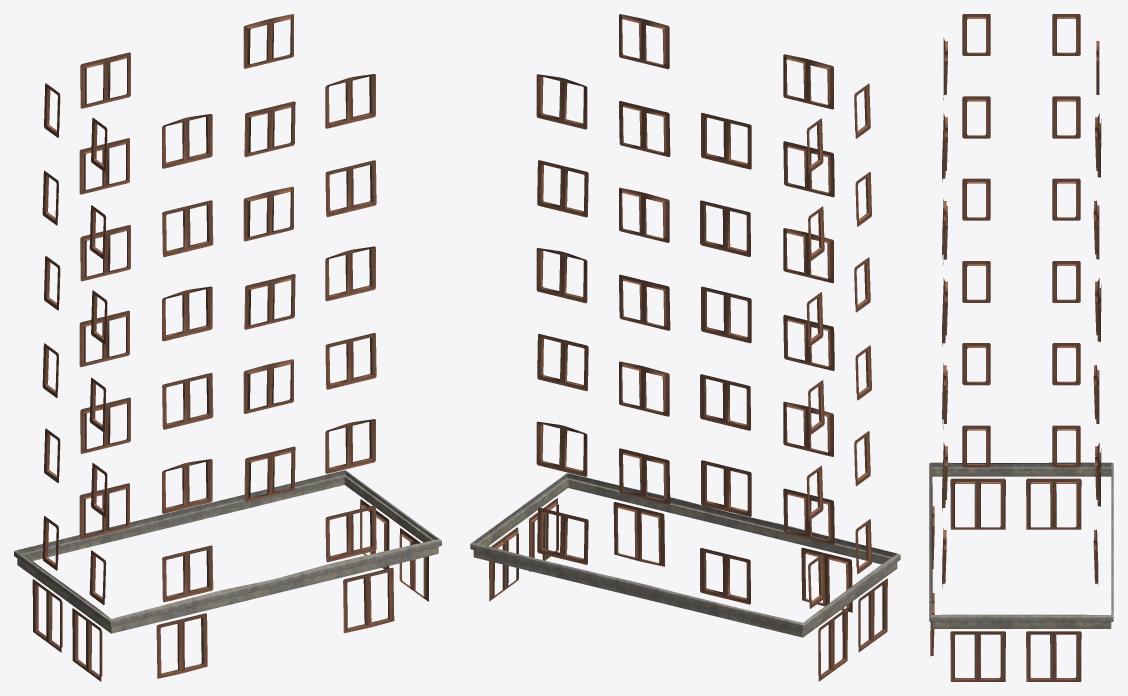
File: Tall_b_trim.fbx
3 views of the same model, side by side, from view 1: azimuth 30°, elevation 25°; view 2: azimuth 150°, elevation 25°; view 3: azimuth 270°, elevation 25° (orthographic). The views are drawn at different scales.
Visible parts, largest first — view 1: Object032; view 2: Object032; view 3: Object032.
Boxes of the visible parts, <box> form: Object032: <box>14,14,441,681</box>; Object032: <box>470,14,900,681</box>; Object032: <box>929,14,1113,681</box>.
Bounding box in the file's own units: 2321 × 3657 × 1171.
